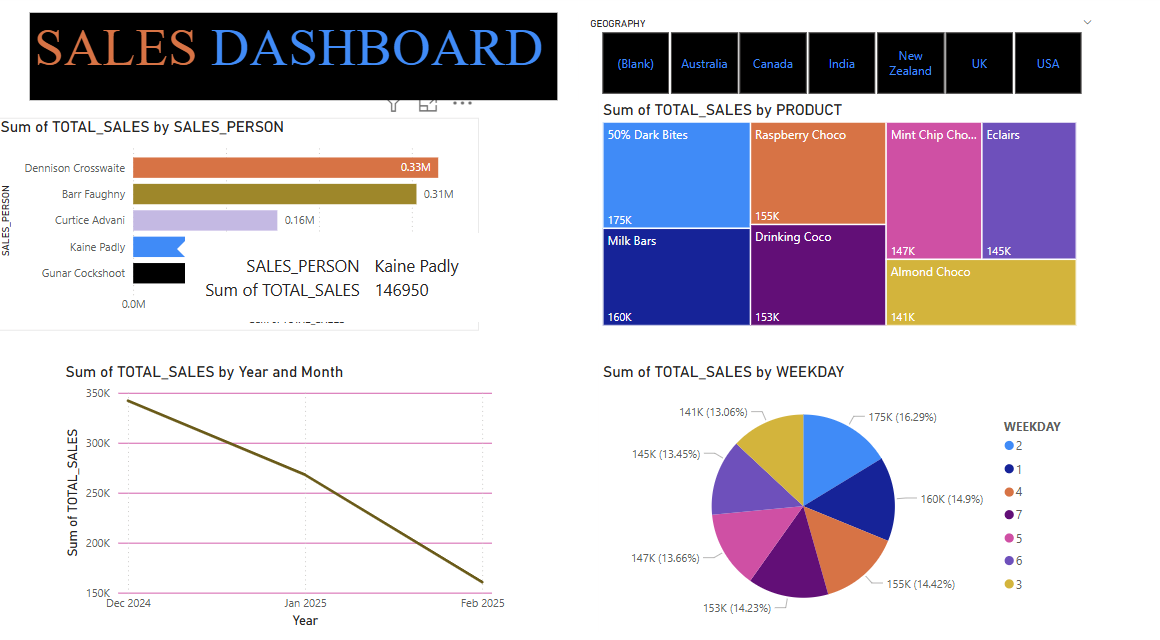

The page's visual inventory and layout, read from the dashboard file:
{"tool":"powerbi","page":{"name":"HAVING","canvas":[1280,720],"ordinal":1},"visuals":[{"type":"barChart","fields":{"Category":["Salesperson with greater than 50000.SALES_PERSON"],"Y":["Salesperson with greater than 50000.TOTAL_SALES"]},"box":[0,135.8,529.7,233.3],"z":0},{"type":"treemap","fields":{"Group":["products greater than 30000.PRODUCT"],"Values":["products greater than 30000.TOTAL_SALES"]},"box":[661.4,116.6,529.7,252.5],"z":1000},{"type":"lineChart","fields":{"Y":["monthy sales, revenue greater than 100000.TOTAL_SALES"],"Category":["monthy sales, revenue greater than 100000.MONTH.Variation.Date Hierarchy.Year","monthy sales, revenue greater than 100000.MONTH.Variation.Date Hierarchy.Month"]},"box":[71.4,404.8,492.6,296.4],"z":2000},{"type":"pieChart","fields":{"Category":["days of week with sales greater than 70000.WEEKDAY"],"Y":["days of week with sales greater than 70000.TOTAL_SALES"]},"box":[661,405,530,296],"z":3000},{"type":"slicer","fields":{"Values":["sales performance by geography.GEOGRAPHY"]},"box":[639.5,20.6,576.3,96.1],"z":4000},{"type":"textbox","box":[37,20.6,579.1,96.1],"z":4001}]}

Visuals, with their boxes in screenshot pixels (x1, y1, x2, y2), scaled from the page's 1280x720 canvas onto the 1160x640 screenshot:
barChart - Salesperson with greater than 50000.SALES_PERSON x Salesperson with greater than 50000.TOTAL_SALES: 0 121 480 328
treemap - products greater than 30000.PRODUCT x products greater than 30000.TOTAL_SALES: 599 104 1079 328
lineChart - monthy sales, revenue greater than 100000.TOTAL_SALES x monthy sales, revenue greater than 100000.MONTH.Variation.Date Hierarchy.Year: 65 360 511 623
pieChart - days of week with sales greater than 70000.WEEKDAY x days of week with sales greater than 70000.TOTAL_SALES: 599 360 1079 623
slicer - sales performance by geography.GEOGRAPHY: 580 18 1102 104
textbox: 34 18 558 104
